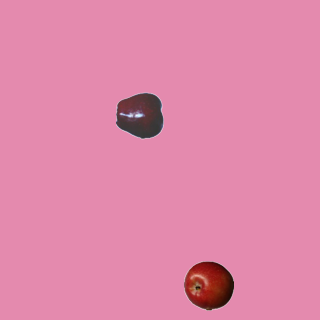Apple Braeburn: (183, 260, 233, 310)
Apple Red Delicious: (115, 90, 165, 140)
